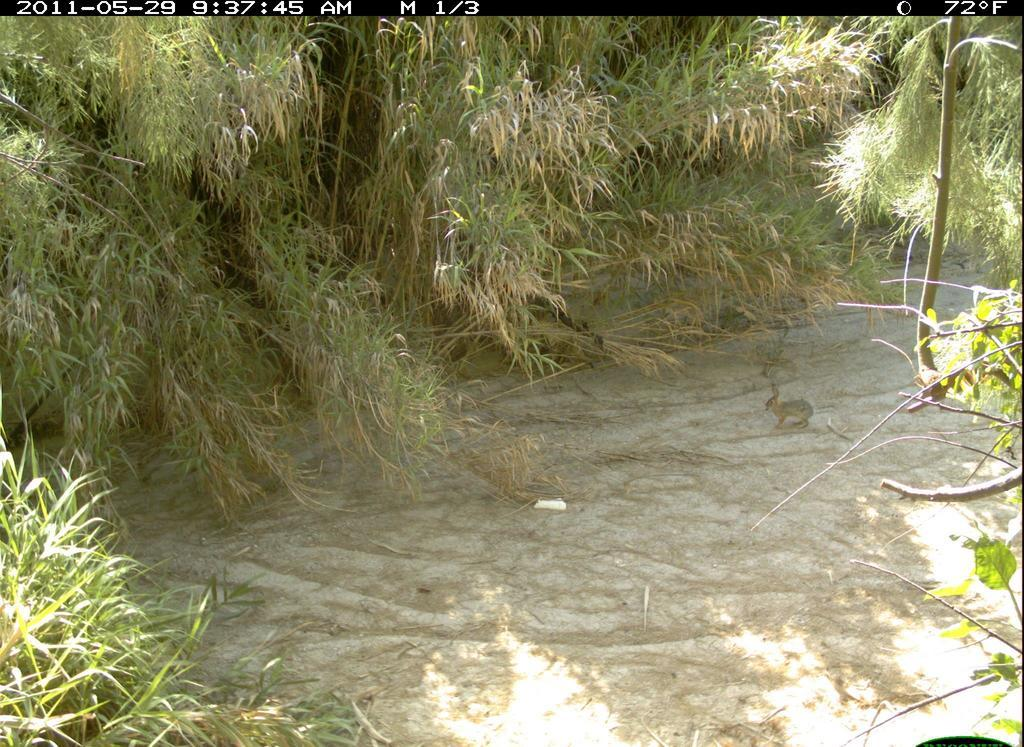rabbit: (757, 377, 824, 438)
